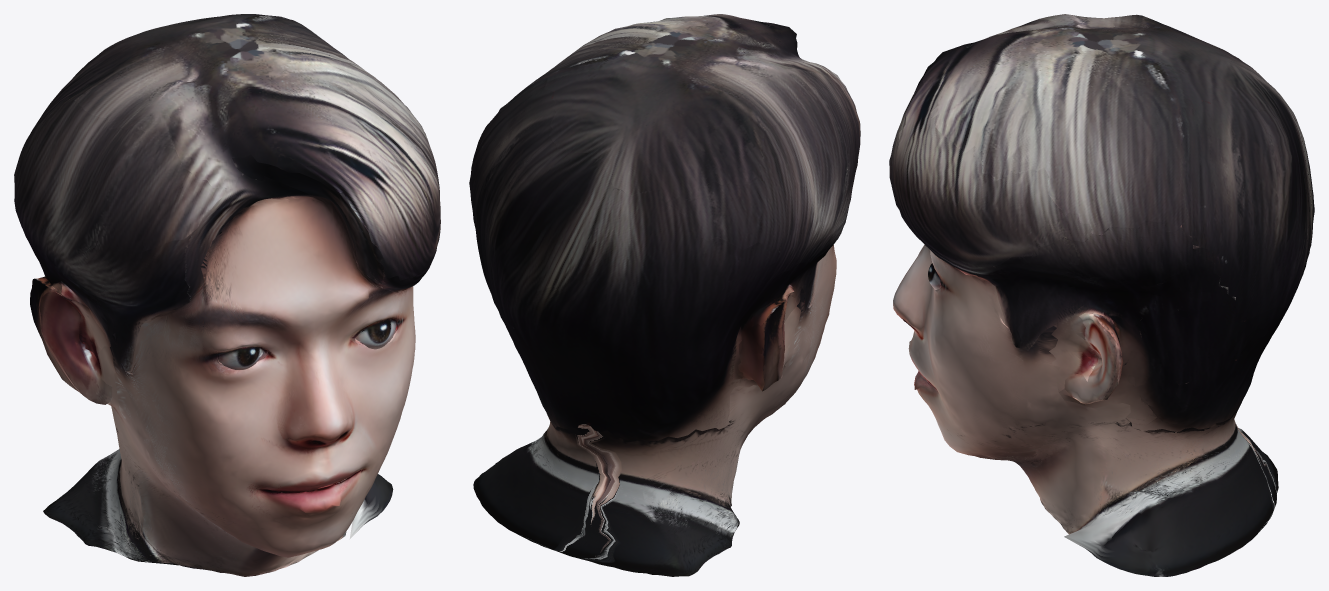
Rendered from docent-qka2-m0c-teeth.glb.
The picture shows the model from 3 angles, left to right: view 1: azimuth 30°, elevation 25°; view 2: azimuth 150°, elevation 25°; view 3: azimuth 270°, elevation 25°; orthographic projection. The views are drawn at different scales.
Visible parts, largest first — view 1: DocentHead; view 2: DocentHead; view 3: DocentHead.
Part boxes in pixels (left/top/right/bottom): DocentHead: left=14, top=14, right=440, bottom=576; DocentHead: left=469, top=14, right=860, bottom=576; DocentHead: left=889, top=14, right=1314, bottom=576.
Size of the model in its own units: 0.1946 by 0.263 by 0.222.
Materials: 3 (1 with a texture image).
